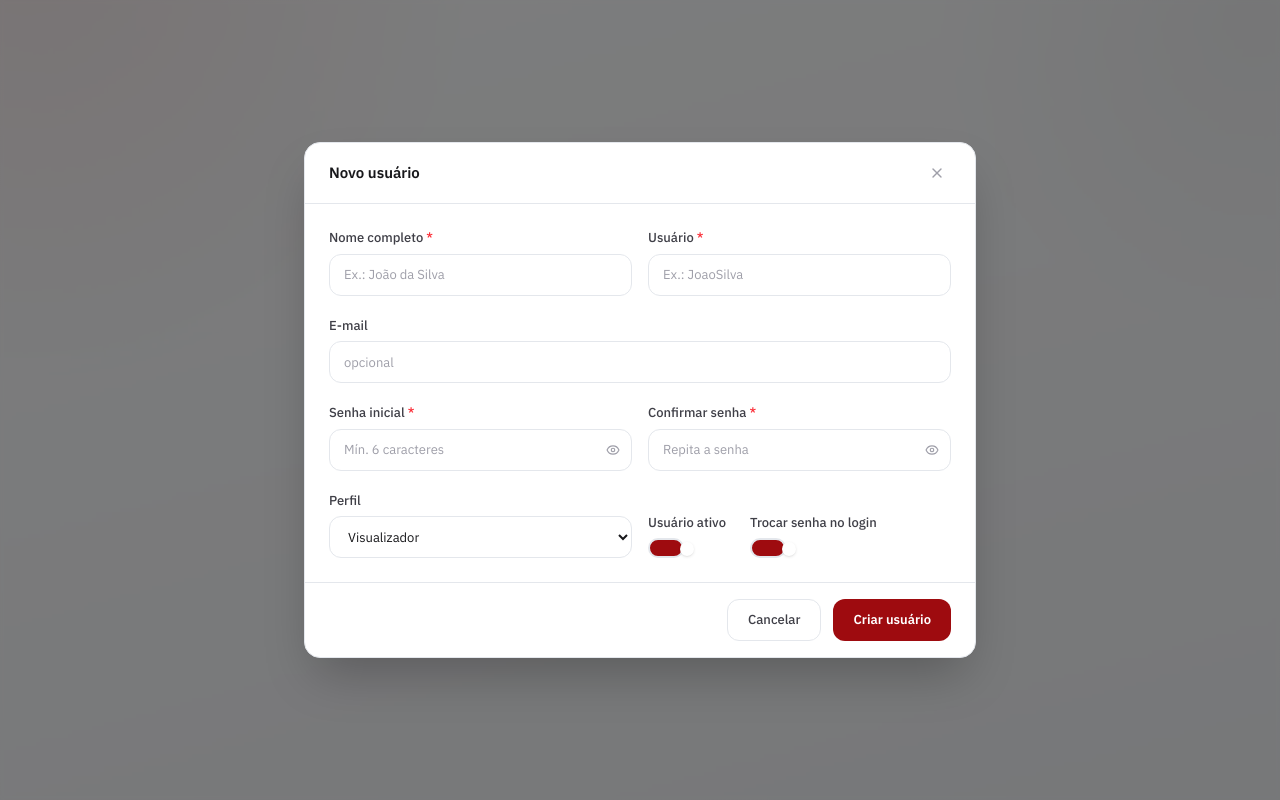
it: UserFormDialog — regressão do loop (React #185) e seletor de vendedor › ao escolher o perfil Vendedor, mostra o seletor de vendedor vinculado
This screenshot has width=1280, height=800.
Expected: the text "Vendedores vinculados" is not shown
Seleciona o perfil "Vendedor" (o select de perfil é o primeiro combobox).
Select "Vendedor" in the dropdown. click: (480, 537)
box: x1=329 y1=516 x2=632 y2=558
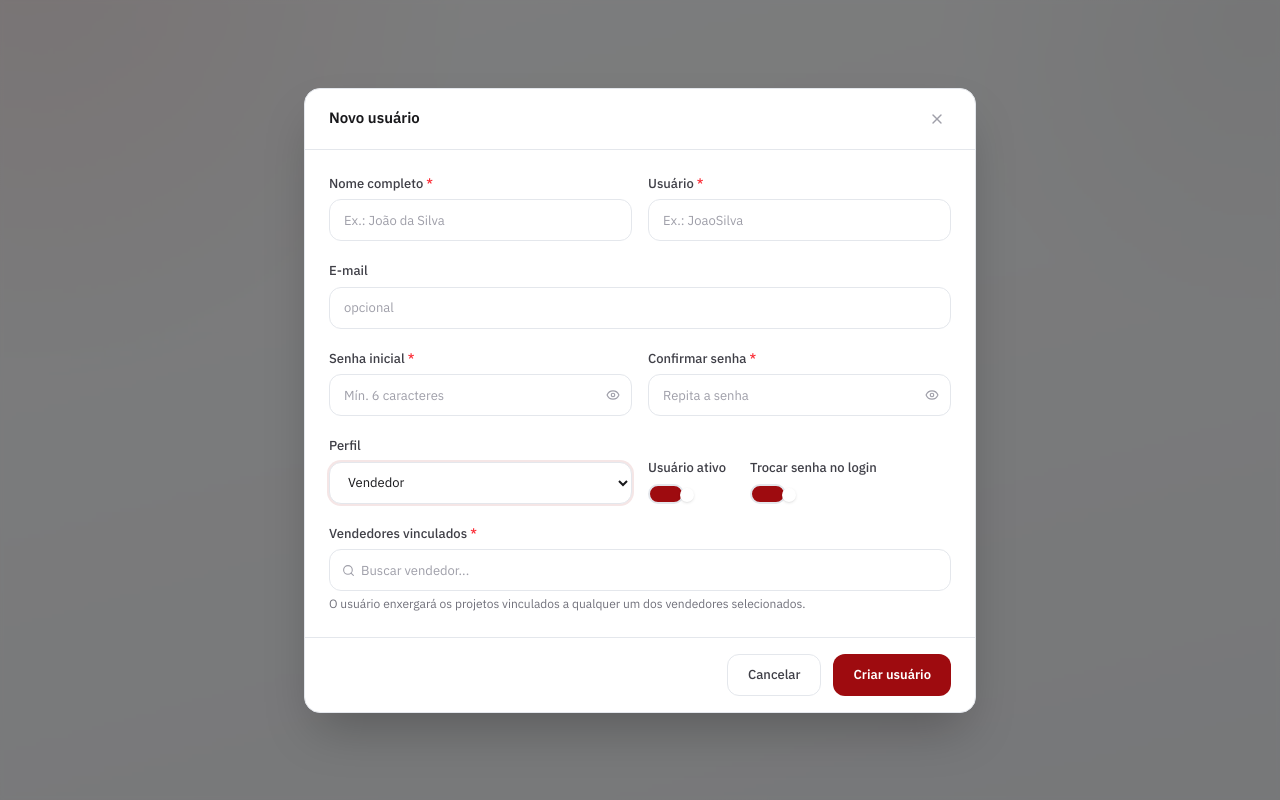
Now the text "Vendedores vinculados *" is shown, box x1=329 y1=524 x2=477 y2=542
Abre a lista de busca do seletor múltiplo.
Click the dropdown labelled "Vendedores vinculados *". click: (650, 570)
box: x1=361 y1=556 x2=938 y2=584
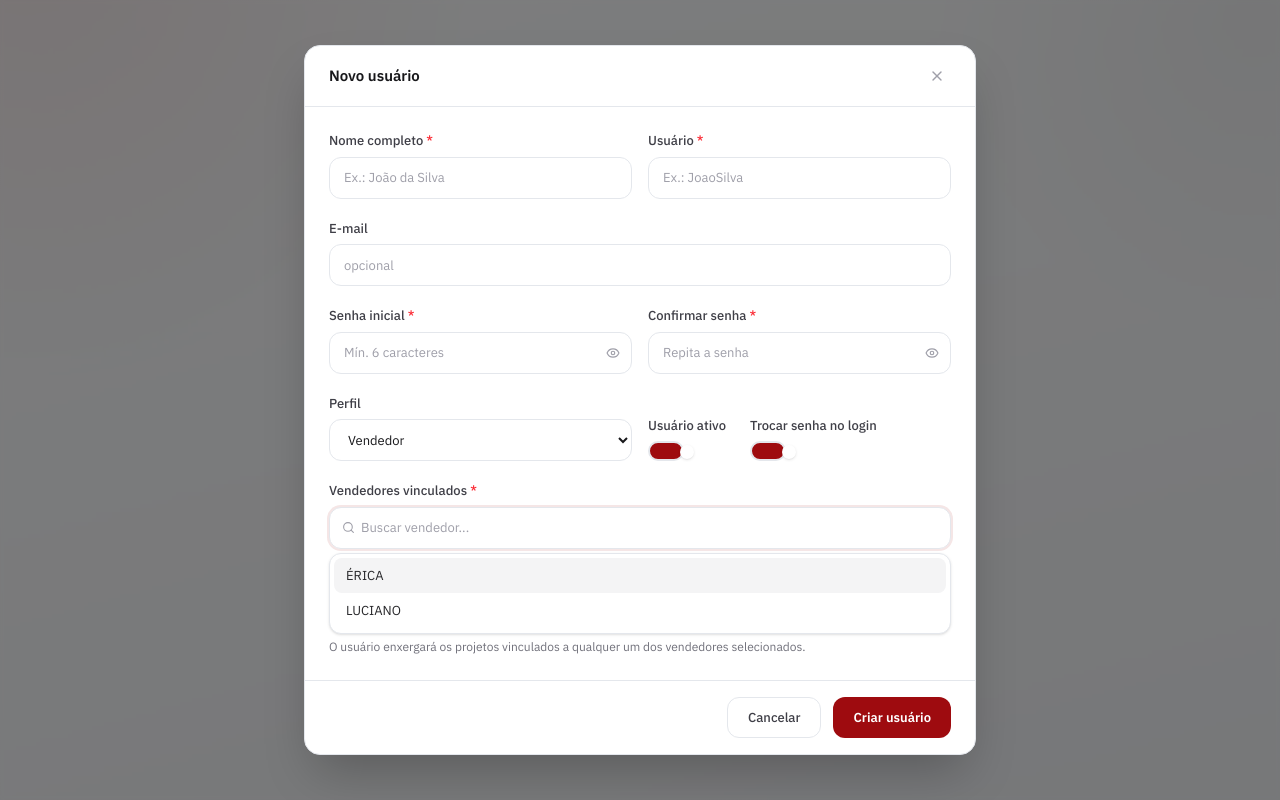
Now the option "LUCIANO" is shown, box x1=346 y1=602 x2=401 y2=619
Now the option "ÉRICA" is shown, box x1=334 y1=558 x2=946 y2=593
